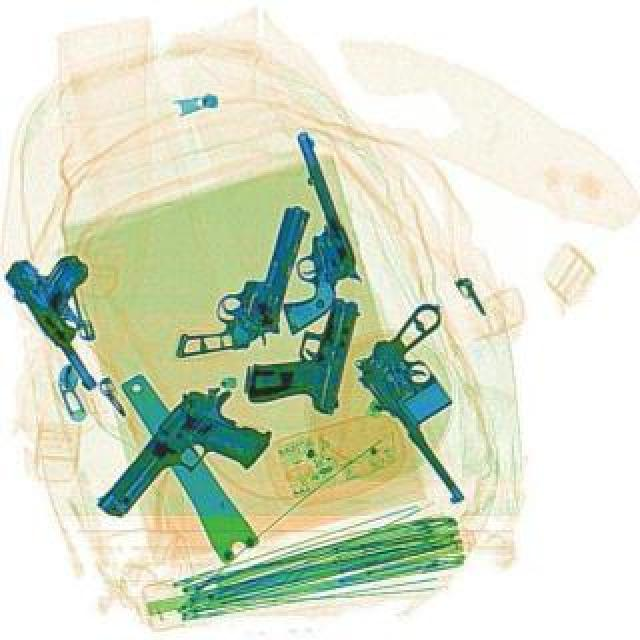gun: (340, 300, 536, 506), (88, 370, 284, 558), (224, 128, 374, 336), (170, 186, 310, 378), (0, 236, 144, 386), (238, 280, 360, 418)
